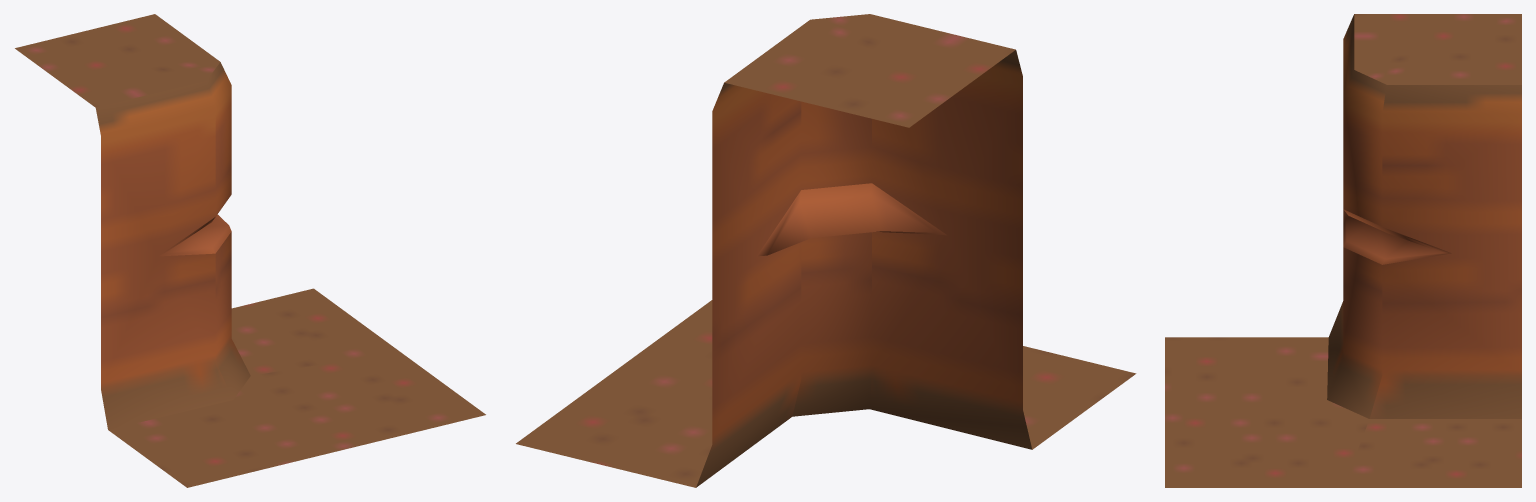
Rendered from canion_step_corner_v02.fbx.
The picture shows the model from 3 angles, left to right: view 1: azimuth 30°, elevation 25°; view 2: azimuth 150°, elevation 25°; view 3: azimuth 270°, elevation 25°; orthographic projection. The views are drawn at different scales.
Parts seen in each view (by area): view 1: canion_step_corner_v02; view 2: canion_step_corner_v02; view 3: canion_step_corner_v02.
Part boxes in pixels (<box>): canion_step_corner_v02: <box>15,14,485,487</box>; canion_step_corner_v02: <box>516,14,1136,487</box>; canion_step_corner_v02: <box>1165,14,1521,487</box>.
Size of the model in its own units: 400 by 400 by 400.
